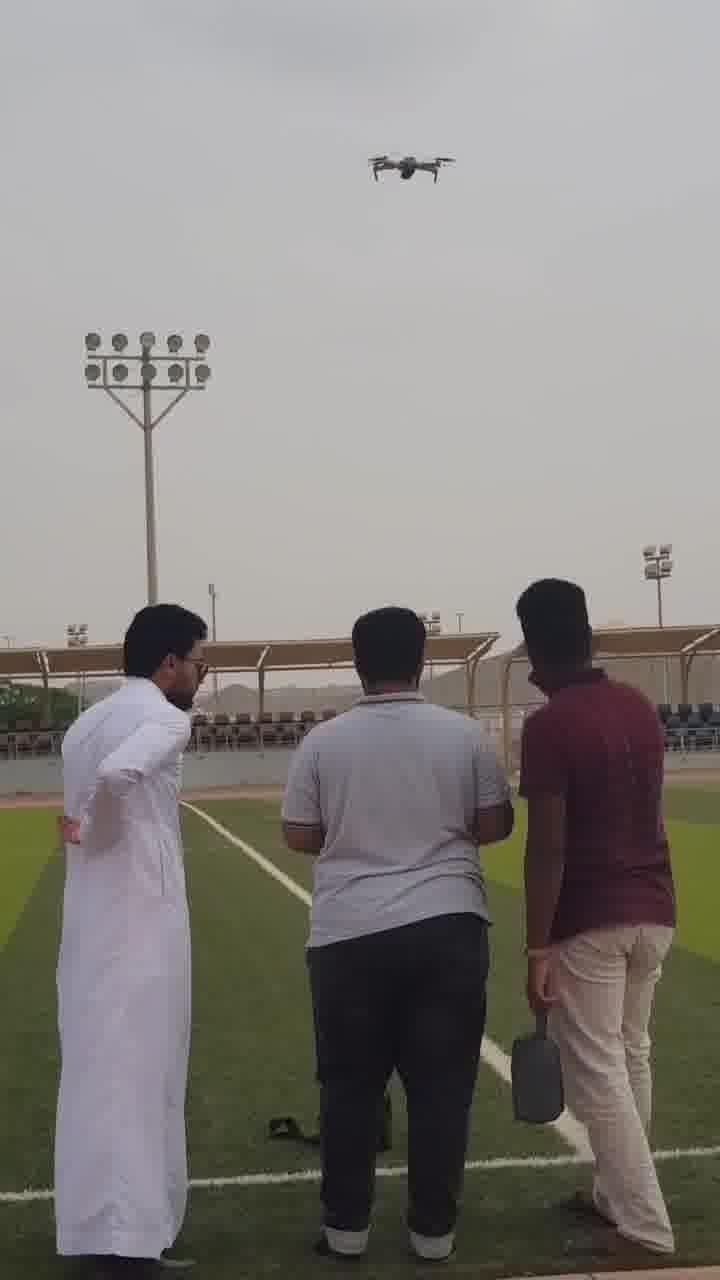drone: (359, 138, 472, 188)
